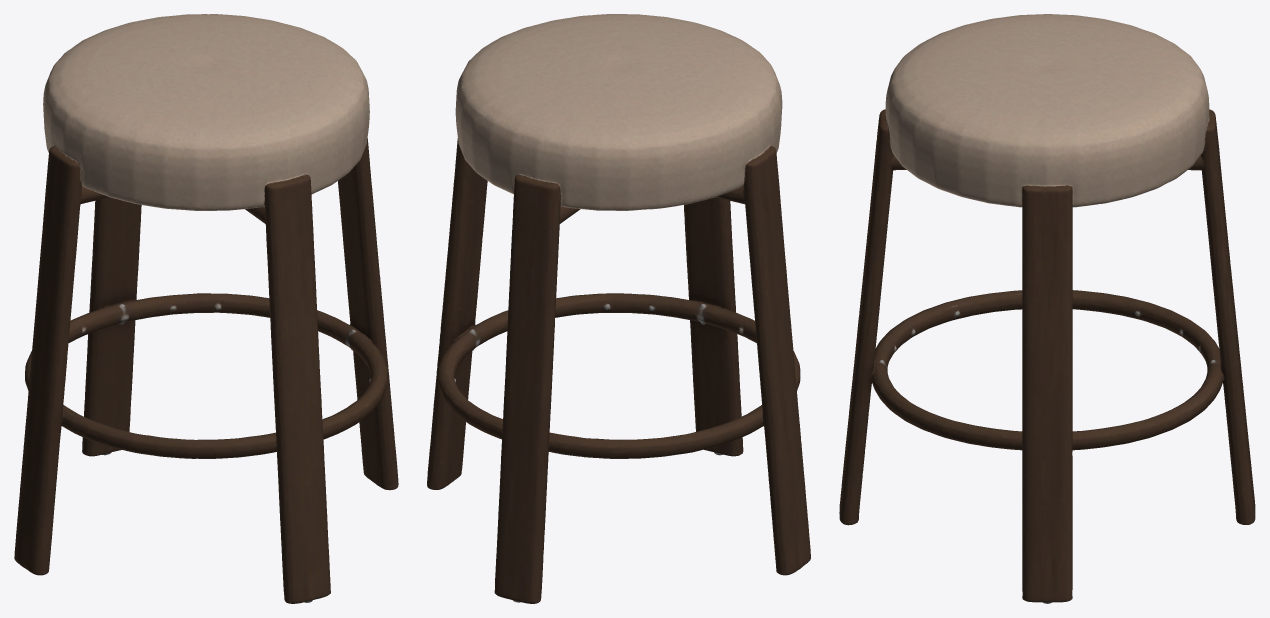
File: island-stool-round-upholstered.glb
The picture shows the model from 3 angles, left to right: view 1: azimuth 30°, elevation 25°; view 2: azimuth 150°, elevation 25°; view 3: azimuth 270°, elevation 25°; orthographic projection.
Parts seen in each view (by area): view 1: world; view 2: world; view 3: world.
Boxes of the visible parts, x1,y1,x2,y2 form: world: (14,14,398,603); world: (427,14,810,603); world: (839,14,1255,603).
Size of the model in its own units: 0.8309 by 1 by 0.8312.
Materials: 1 (1 with a texture image).
